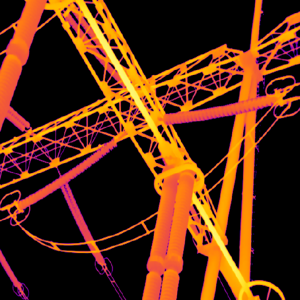insulator: (16, 138, 117, 212), (161, 89, 281, 127), (59, 179, 105, 268), (0, 248, 22, 290), (4, 105, 29, 130)
